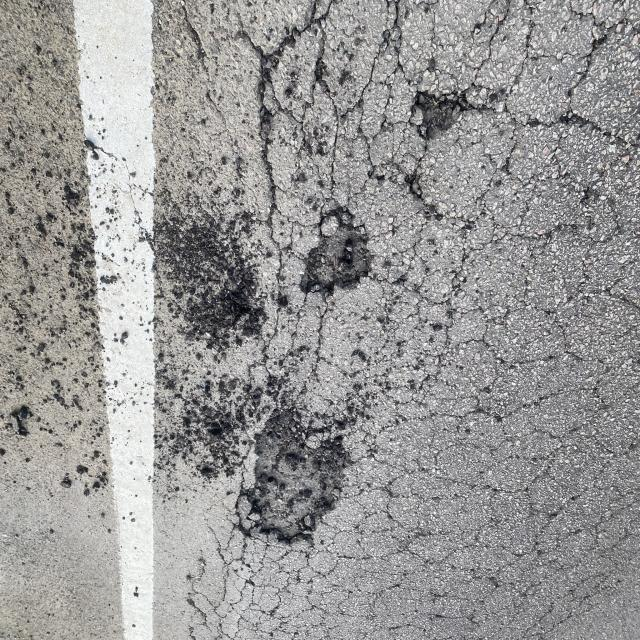Pothole: (231, 182, 435, 572)
